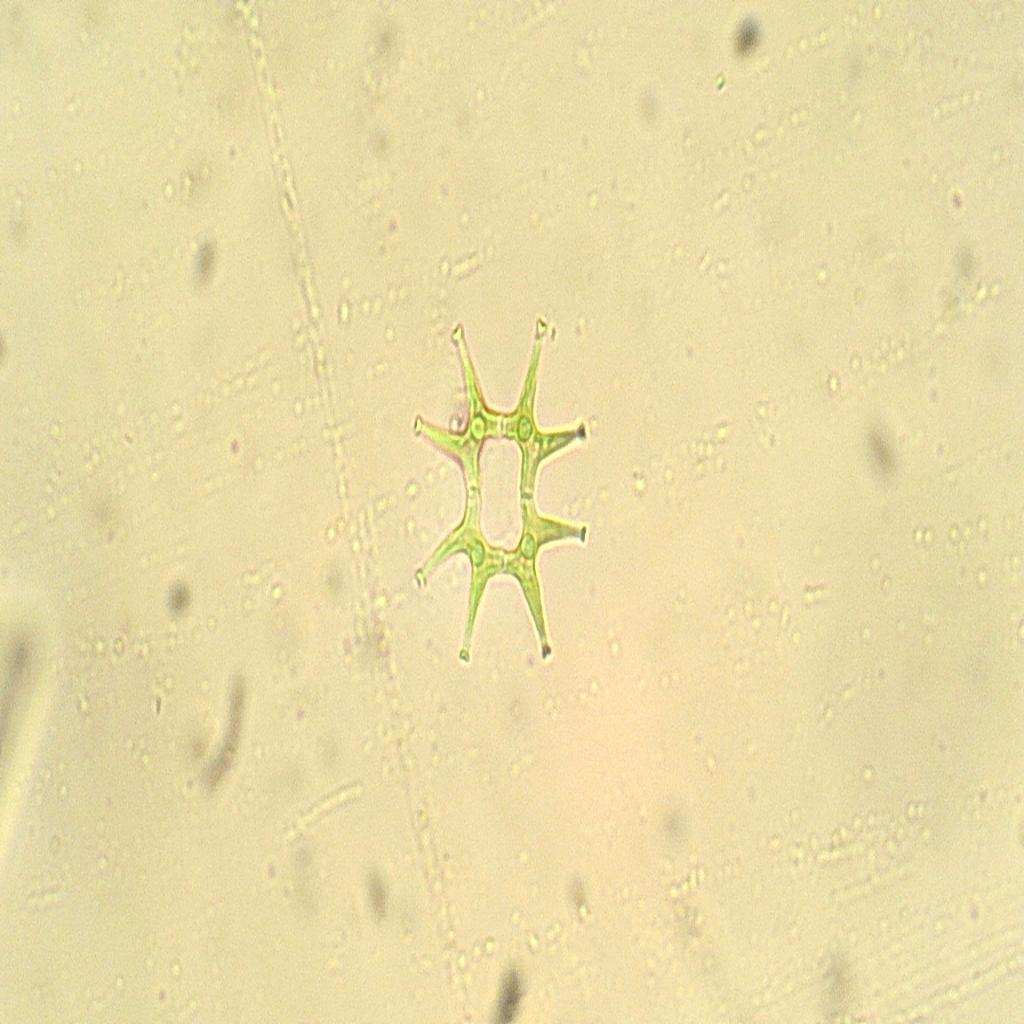Pediastrum_75O: (399, 304, 605, 674)
